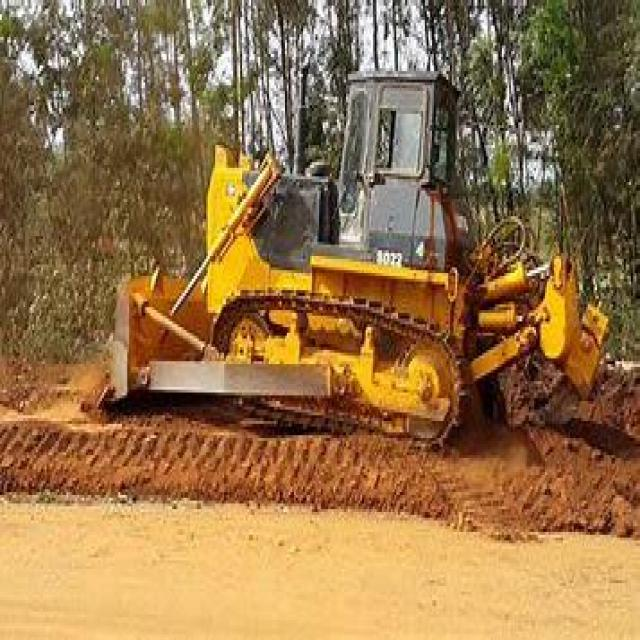Bulldozer: (88, 37, 615, 472)
